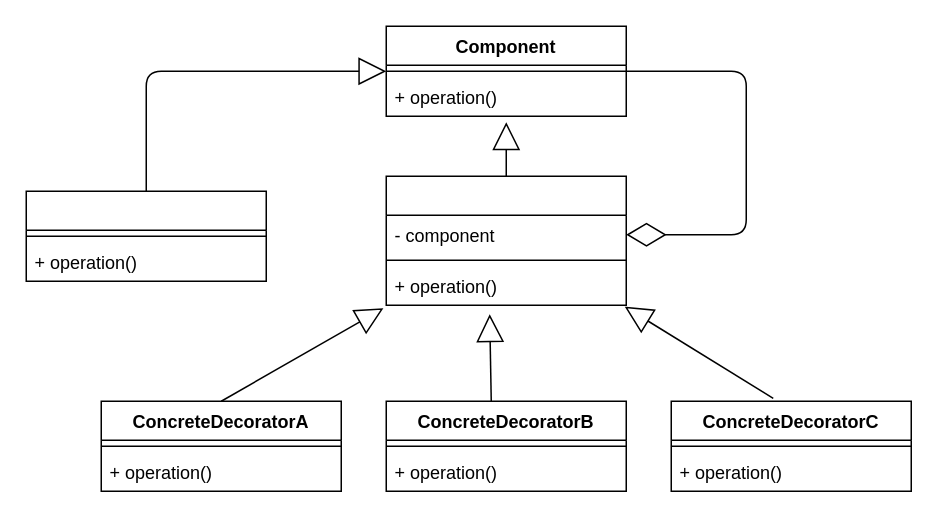
Image size: 938x522. Some labels were removed from this diagram. Each missing label, with the box of its shape:
ConcreteComponent: (25, 190, 266, 281)
Decorator: (385, 175, 626, 305)
